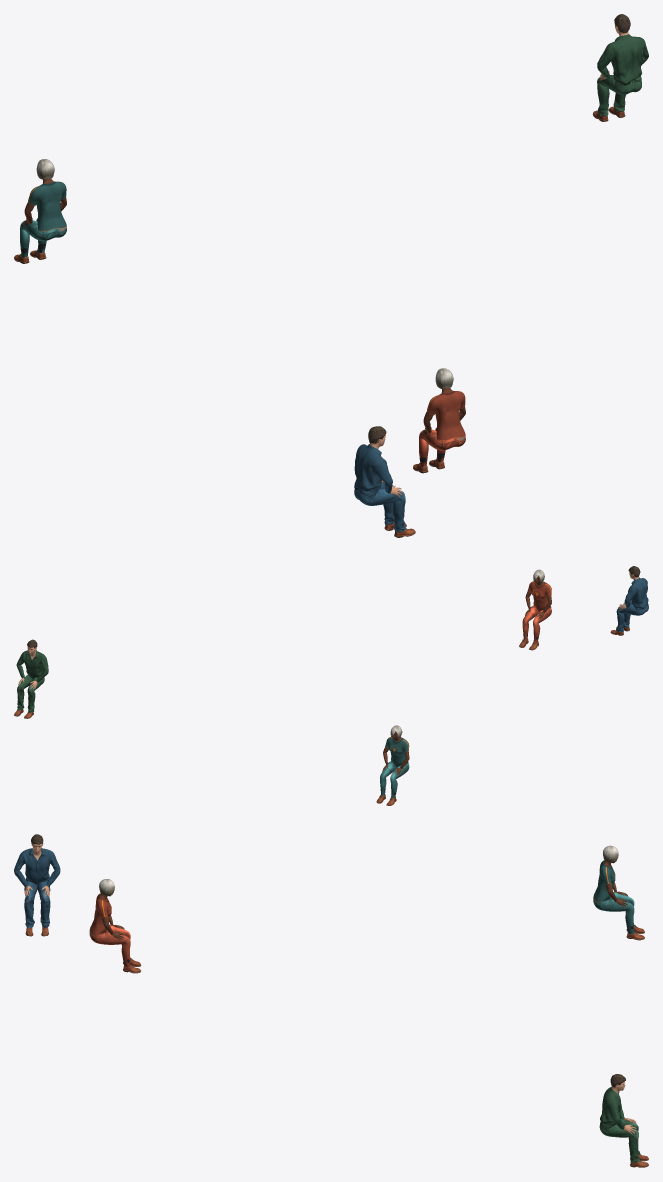
The model's file is room-people.glb.
3 renders of one model, top to bottom at view 1: azimuth 30°, elevation 25°; view 2: azimuth 150°, elevation 25°; view 3: azimuth 270°, elevation 25°, orthographic. The views are drawn at different scales.
Parts seen in each view (by area): view 1: Review_Physician__Physician_Body.male_casualsuit01, Reception_Visitor__Physician_Body.male_casualsuit01, Reception_Staff__Patient_Body.female_casualsuit01, Follow_Coordinator__Patient_Body.female_casualsuit01; view 2: Review_Physician__Physician_Body.male_casualsuit01, Reception_Visitor__Physician_Body.male_casualsuit01, Reception_Staff__Patient_Body.female_casualsuit01, Follow_Coordinator__Patient_Body.female_casualsuit01; view 3: Reception_Visitor__Physician_Body.male_casualsuit01, Review_Physician__Physician_Body.male_casualsuit01, Follow_Coordinator__Patient_Body.female_casualsuit01, Reception_Staff__Patient_Body.female_casualsuit01.
Boxes of the visible parts, x1,y1,x2,y2 form: Review_Physician__Physician_Body.male_casualsuit01: (597,34,648,116); Reception_Visitor__Physician_Body.male_casualsuit01: (354,444,406,532); Reception_Staff__Patient_Body.female_casualsuit01: (419,391,465,466); Follow_Coordinator__Patient_Body.female_casualsuit01: (20,181,66,257); Review_Physician__Physician_Body.male_casualsuit01: (16,650,48,712); Reception_Visitor__Physician_Body.male_casualsuit01: (616,577,648,632); Reception_Staff__Patient_Body.female_casualsuit01: (522,581,551,642); Follow_Coordinator__Patient_Body.female_casualsuit01: (380,737,409,798); Reception_Visitor__Physician_Body.male_casualsuit01: (14,848,60,928); Review_Physician__Physician_Body.male_casualsuit01: (599,1087,640,1162); Follow_Coordinator__Patient_Body.female_casualsuit01: (593,860,634,934); Reception_Staff__Patient_Body.female_casualsuit01: (89,893,130,967).
Size of the model in its own units: 8.47 by 1.4 by 8.91.
11 materials, 11 textured.
